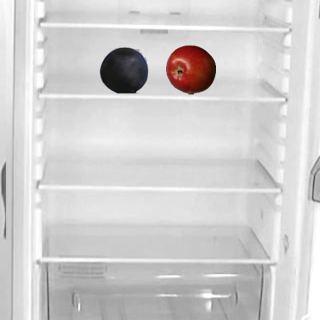Apple Braeburn: (165, 44, 215, 94)
Grape Blue: (98, 44, 148, 94)
